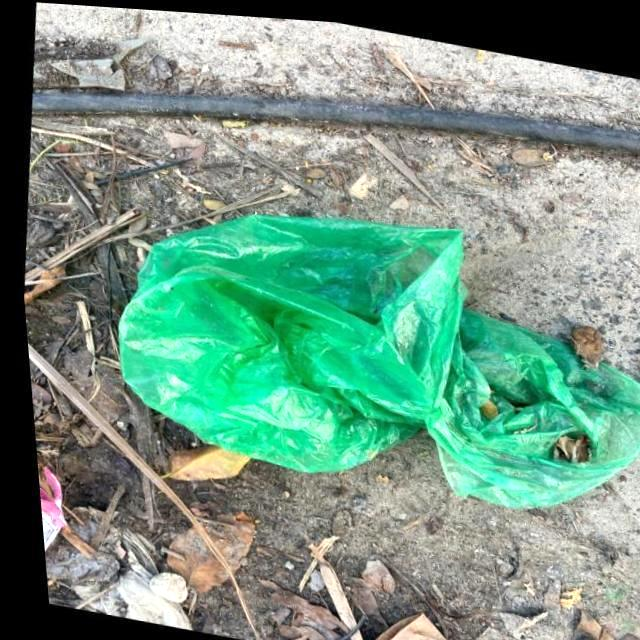polythene: (122, 249, 613, 501)
